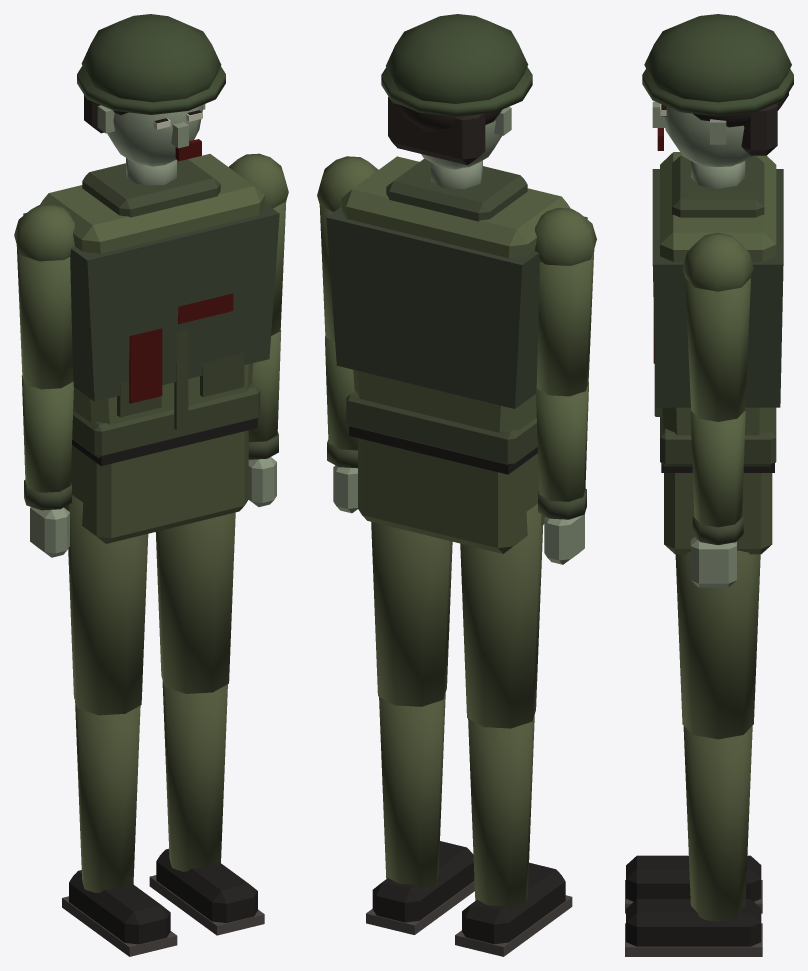
File: zombie_f.glb
3 renders of one model, left to right at view 1: azimuth 30°, elevation 25°; view 2: azimuth 150°, elevation 25°; view 3: azimuth 270°, elevation 25°, orthographic.
Parts seen in each view (by area): view 1: Torso, Head, ShinL, ShinR, Hips, LegR, LegL, ArmR, ForearmR, ForearmL, ArmL; view 2: Torso, Head, ShinR, Hips, ShinL, LegR, LegL, ArmR, ForearmR, ForearmL, ArmL; view 3: Torso, Head, ShinL, LegL, ArmL, ForearmL, Hips, ShinR.
Boxes of the visible parts, left/top/right/bottom form: Torso: left=23, top=154, right=279, bottom=458; Head: left=77, top=14, right=225, bottom=185; ShinL: left=149, top=681, right=264, bottom=935; ShinR: left=62, top=701, right=177, bottom=956; Hips: left=64, top=418, right=257, bottom=543; LegR: left=68, top=494, right=148, bottom=715; LegL: left=155, top=512, right=235, bottom=693; ArmR: left=14, top=204, right=74, bottom=389; ForearmR: left=21, top=375, right=73, bottom=557; ForearmL: left=248, top=330, right=281, bottom=506; ArmL: left=229, top=153, right=288, bottom=335; Torso: left=326, top=156, right=587, bottom=466; Head: left=381, top=14, right=532, bottom=189; ShinR: left=455, top=714, right=572, bottom=956; Hips: left=349, top=426, right=545, bottom=553; ShinL: left=366, top=693, right=474, bottom=934; LegR: left=460, top=504, right=543, bottom=728; LegL: left=371, top=522, right=452, bottom=706; ArmR: left=535, top=208, right=596, bottom=396; ForearmR: left=536, top=382, right=588, bottom=564; ForearmL: left=325, top=336, right=357, bottom=513; ArmL: left=317, top=156, right=378, bottom=341; Torso: left=652, top=152, right=783, bottom=466; Head: left=642, top=14, right=793, bottom=188; ShinL: left=625, top=726, right=762, bottom=956; LegL: left=675, top=550, right=760, bottom=739; ArmL: left=682, top=232, right=753, bottom=421; ForearmL: left=690, top=410, right=745, bottom=587; Hips: left=661, top=463, right=774, bottom=554; ShinR: left=625, top=855, right=762, bottom=913.
Bounding box in the file's own units: 0.582 × 1.83 × 0.312.
